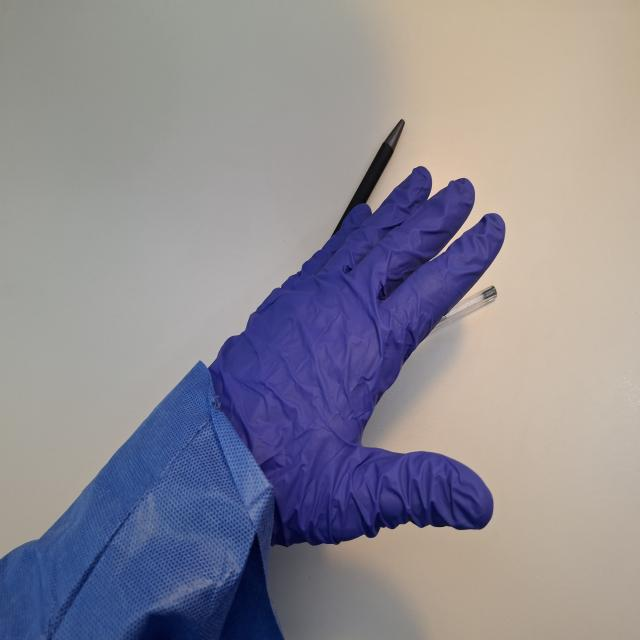glove_on: (206, 163, 509, 552)
